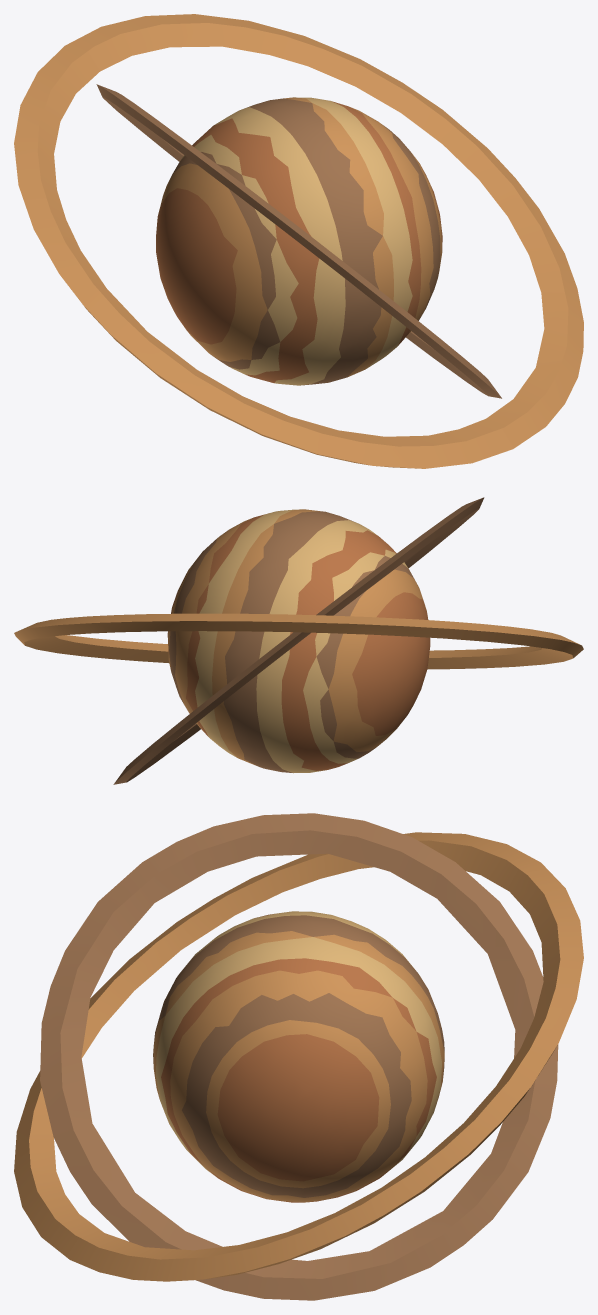
The picture shows the model from 3 angles, top to bottom: view 1: azimuth 30°, elevation 25°; view 2: azimuth 150°, elevation 25°; view 3: azimuth 270°, elevation 25°; orthographic projection. The views are drawn at different scales.
Visible parts, largest first — view 1: Planet_7; view 2: Planet_7; view 3: Planet_7.
Boxes of the visible parts, x1,y1,x2,y2 form: Planet_7: [14, 14, 583, 468]; Planet_7: [14, 497, 583, 784]; Planet_7: [14, 813, 583, 1300].
Size of the model in its own units: 5.94 by 3.54 by 5.5.
Materials: 1 (1 with a texture image).
